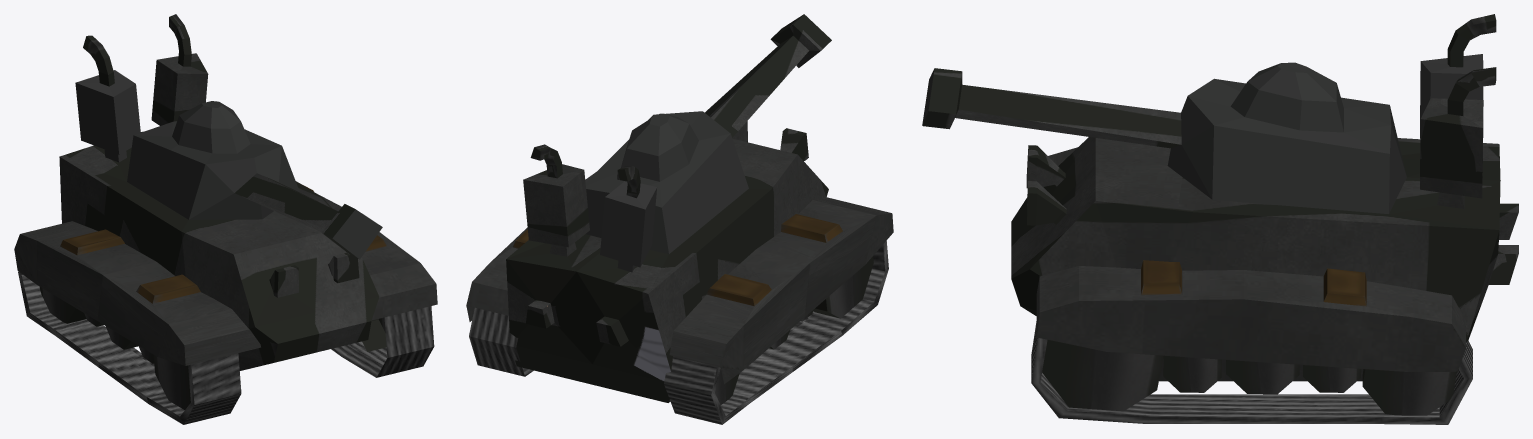
The model's file is tank2.fbx.
3 views of the same model, side by side, from view 1: azimuth 30°, elevation 25°; view 2: azimuth 150°, elevation 25°; view 3: azimuth 270°, elevation 25° (orthographic). The views are drawn at different scales.
Parts seen in each view (by area): view 1: tank__1_:polySurface15; view 2: tank__1_:polySurface15; view 3: tank__1_:polySurface15.
Part boxes in pixels (bbox=[...]): tank__1_:polySurface15: bbox=[14, 14, 437, 424]; tank__1_:polySurface15: bbox=[466, 14, 893, 424]; tank__1_:polySurface15: bbox=[922, 14, 1518, 424].
Bounding box in the file's own units: 8.83 × 8.29 × 14.44.
